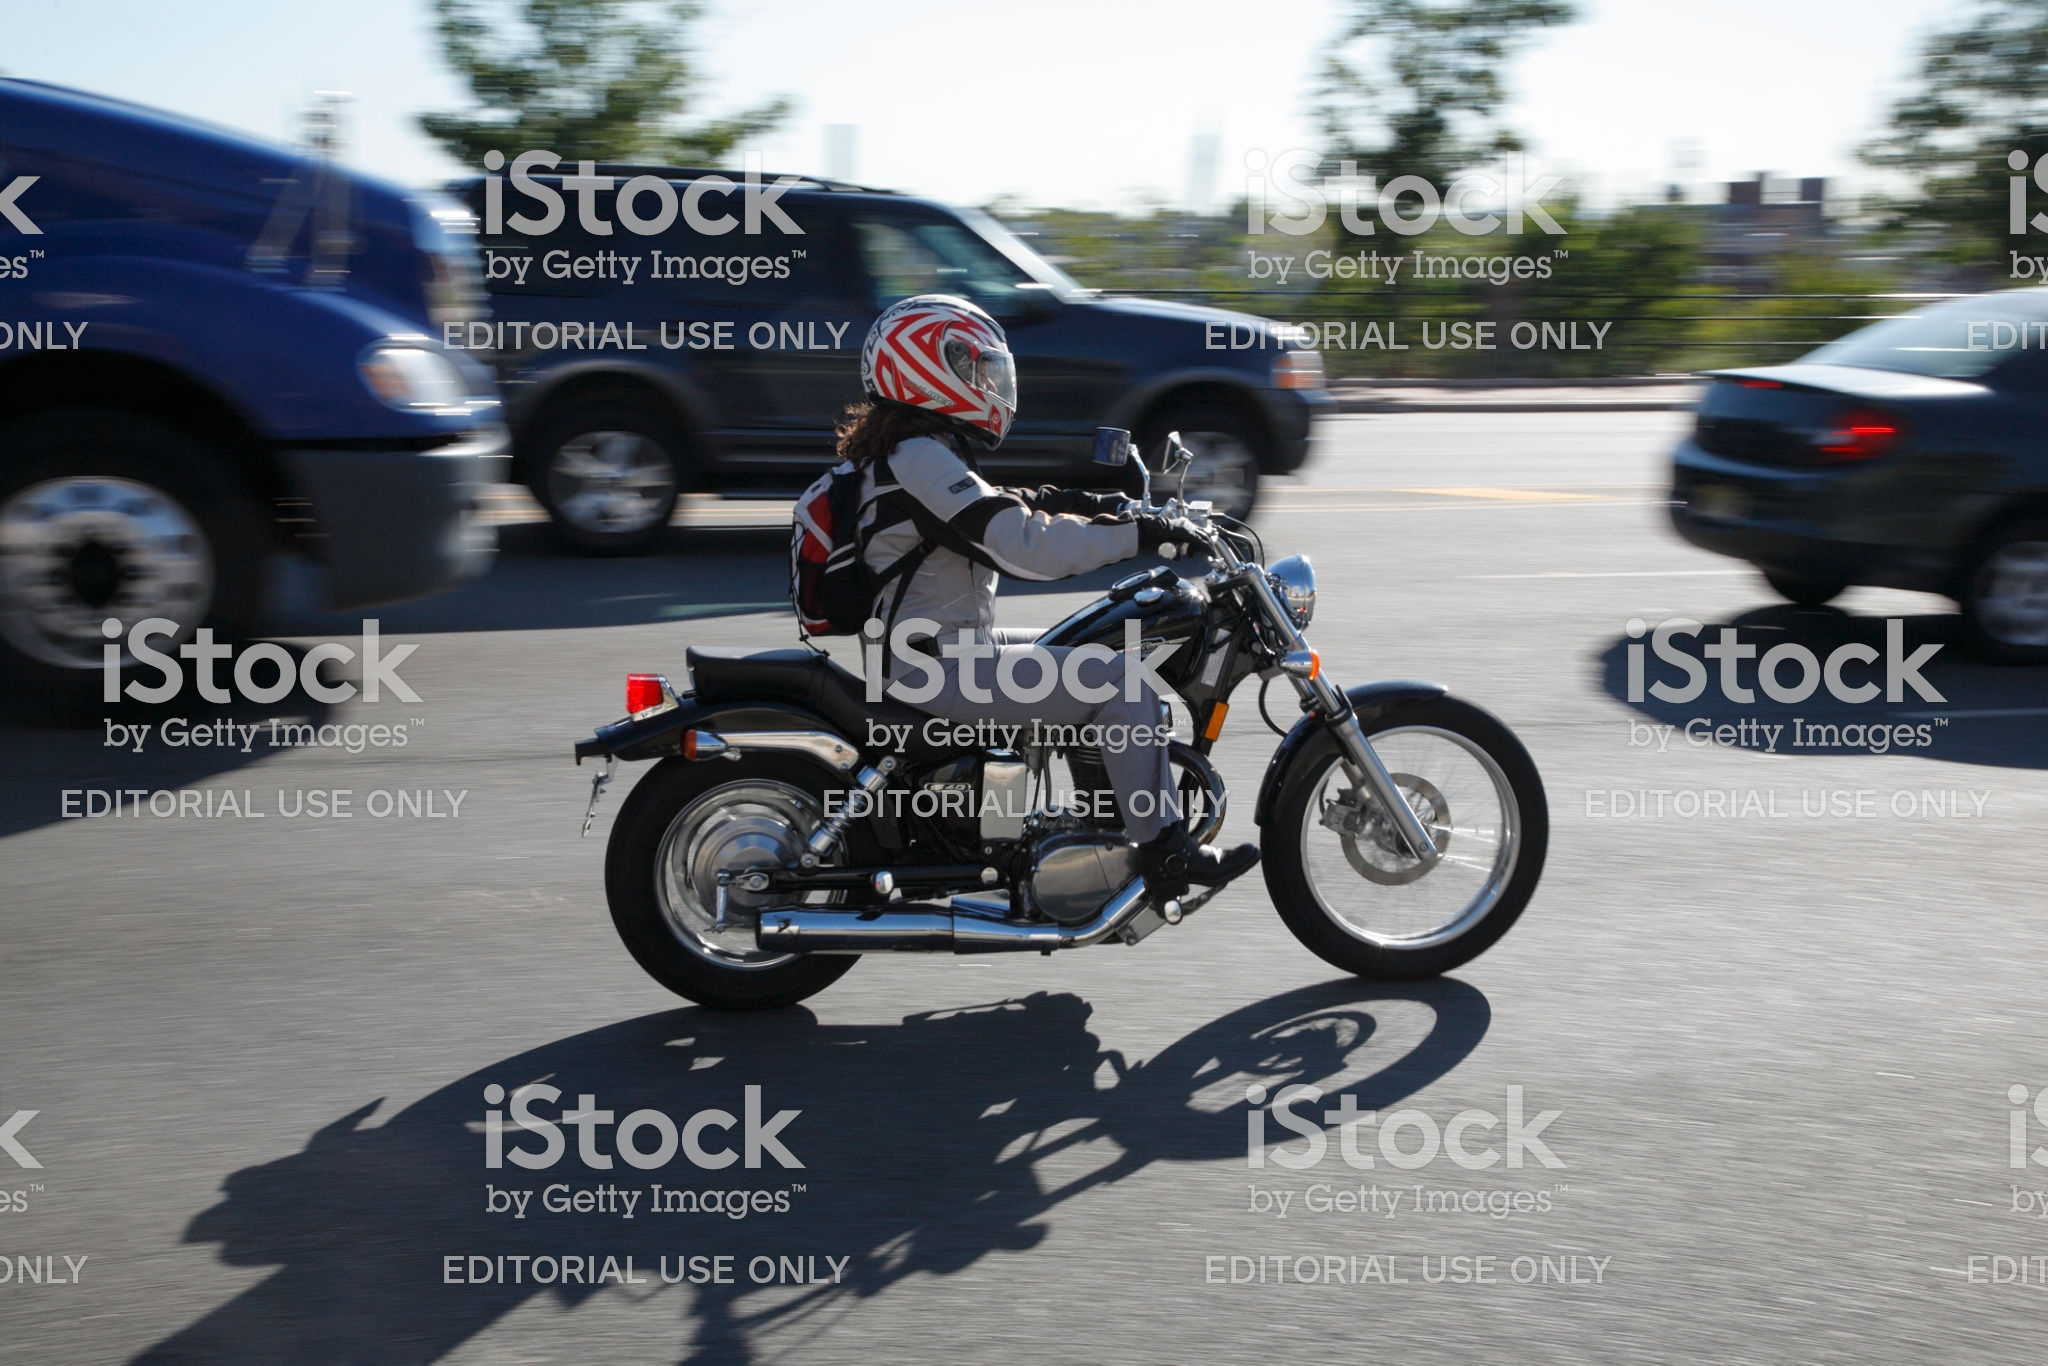helmet: (850, 294, 1035, 467)
